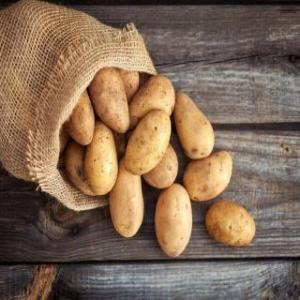potato: (174, 90, 218, 158), (156, 185, 195, 259), (124, 113, 172, 173), (183, 148, 233, 204), (110, 162, 146, 236), (66, 140, 108, 198), (204, 202, 256, 248), (94, 68, 130, 134), (132, 74, 176, 122), (88, 125, 114, 195), (66, 86, 96, 146)
